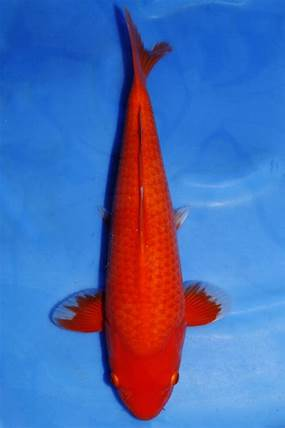red: (48, 7, 231, 420)
